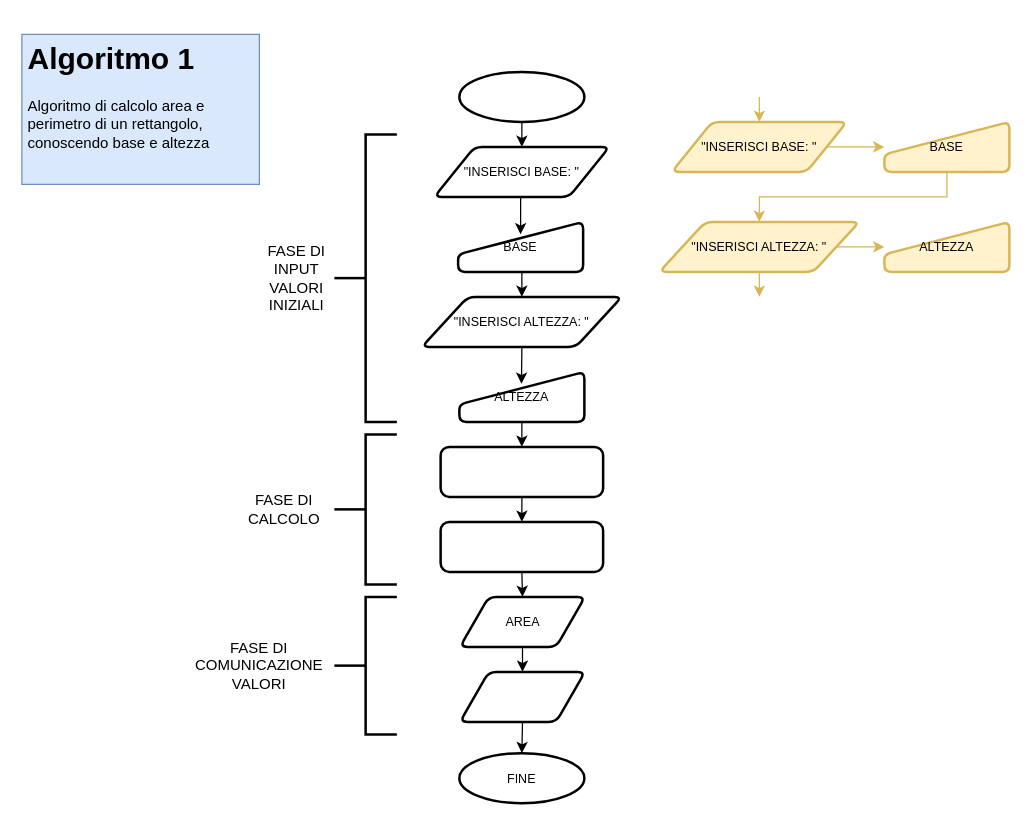
Image size: 1033x825. Some labels were removed from this diagram. Here are the shapes that lost their labels. From the top down, the box of each, then its label:
(458, 70, 585, 122): INIZIO
(439, 445, 604, 498): AREA = BASE * ALTEZZA
(439, 520, 604, 572): 2P = (BASE+ALTEZZA) * 2
(458, 670, 586, 722): 2P
